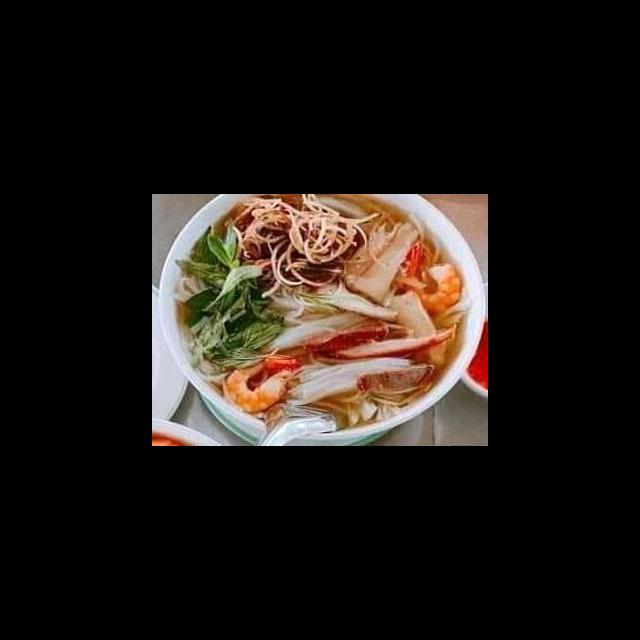tom: (336, 221, 419, 288), (174, 322, 240, 400)
